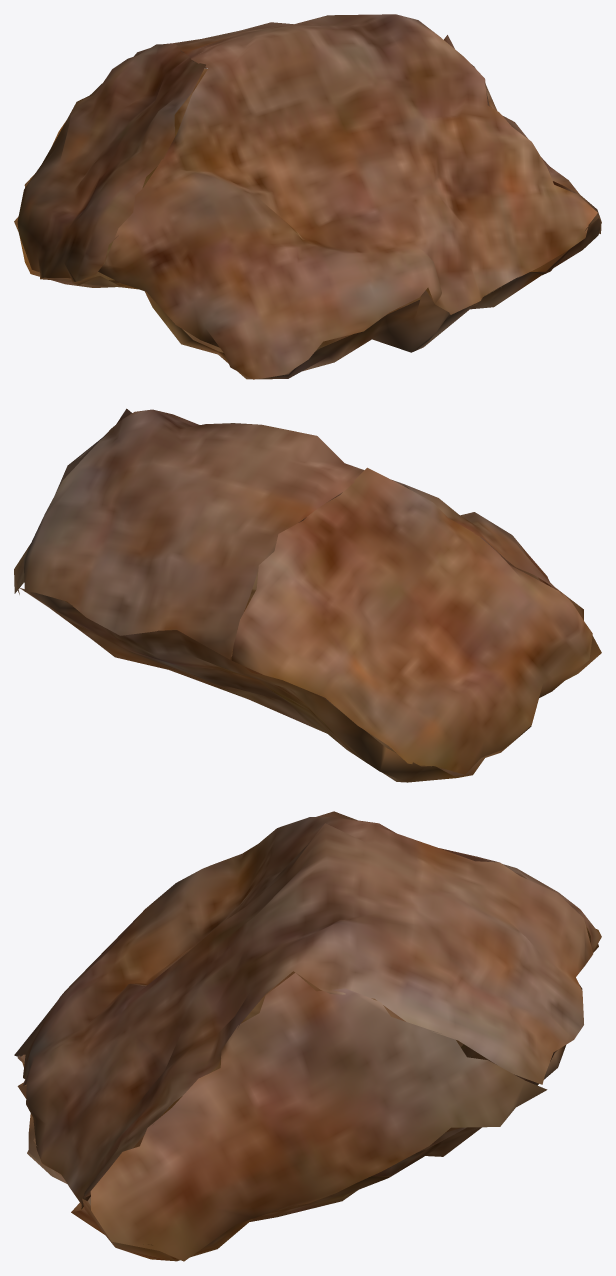
File: namaqualand_stones_01_v1.glb
3 views of the same model, one above another, from view 1: azimuth 30°, elevation 25°; view 2: azimuth 150°, elevation 25°; view 3: azimuth 270°, elevation 25° (orthographic). The views are drawn at different scales.
Parts seen in each view (by area): view 1: lod0; view 2: lod0; view 3: lod0.
Boxes of the visible parts, x1,y1,x2,y2 form: lod0: (14,14,601,379); lod0: (14,408,601,782); lod0: (14,811,601,1261).
Size of what is drawn, in the model's own units: 0.0769 by 0.0376 by 0.0636.
1 material, 1 textured.
